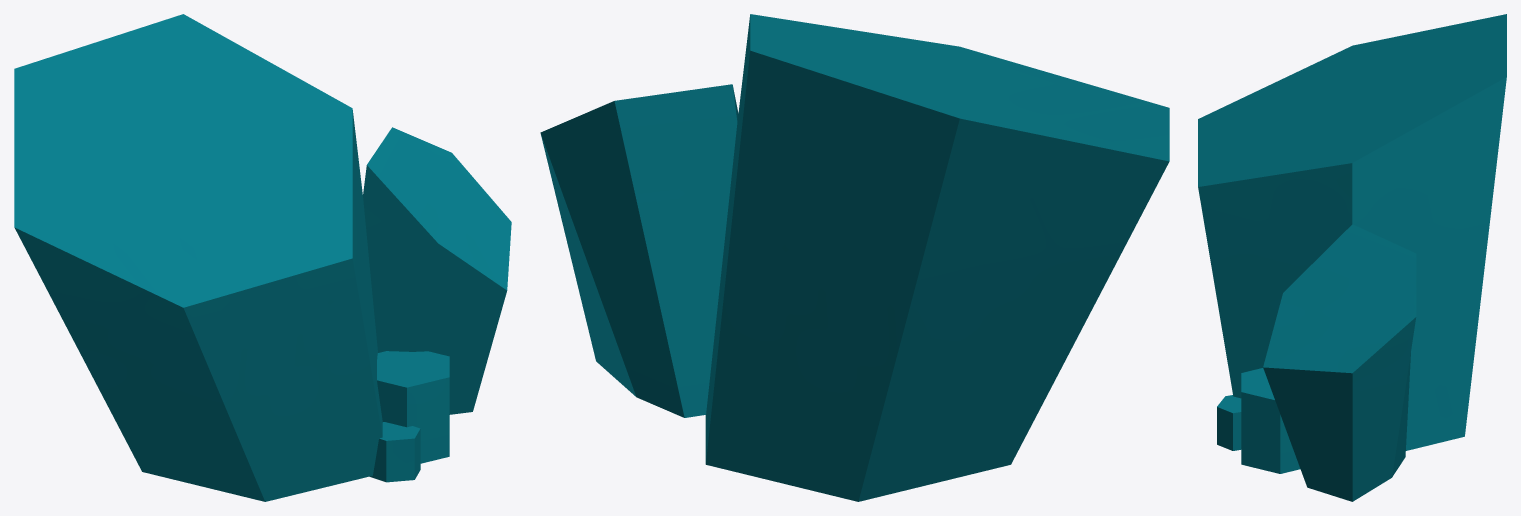
3 renders of one model, left to right at view 1: azimuth 30°, elevation 25°; view 2: azimuth 150°, elevation 25°; view 3: azimuth 270°, elevation 25°, orthographic. The views are drawn at different scales.
Visible parts, largest first — view 1: 5; view 2: 5; view 3: 5.
Part boxes in pixels (x1,y1,x2,y2): 5: (14, 14, 511, 501); 5: (540, 14, 1169, 501); 5: (1198, 14, 1506, 501).
Size of the model in its own units: 179 by 126 by 105.
1 material, 1 textured.
